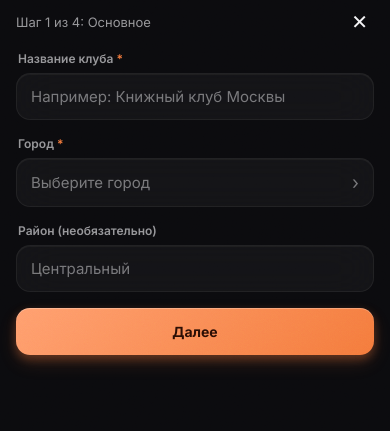
it: CreateClubModal › shows error "Название: минимум 3 символа" when name is too short and "Далее" is clicked
Click the button "Далее": (195, 332) [16,308,374,355]
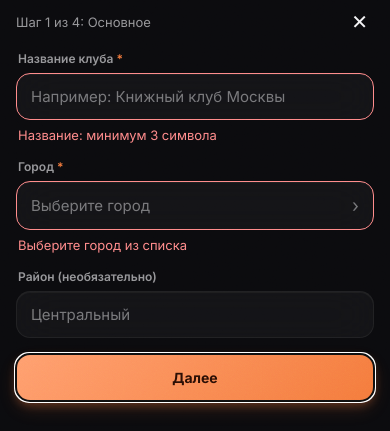
Check: the text "Название: минимум 3 символа" is shown, box [18,127,217,143]
